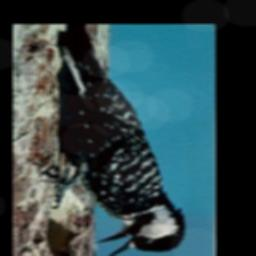Woodpecker: (38, 25, 193, 256)
